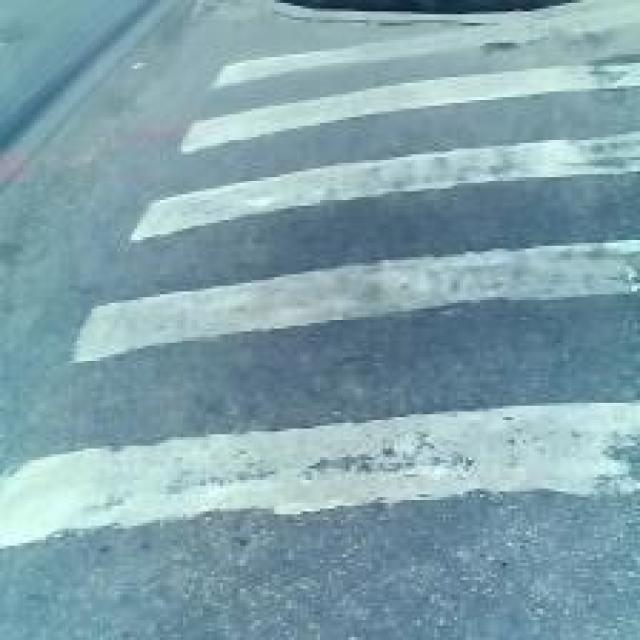walk-crossing: (207, 54, 590, 589)
